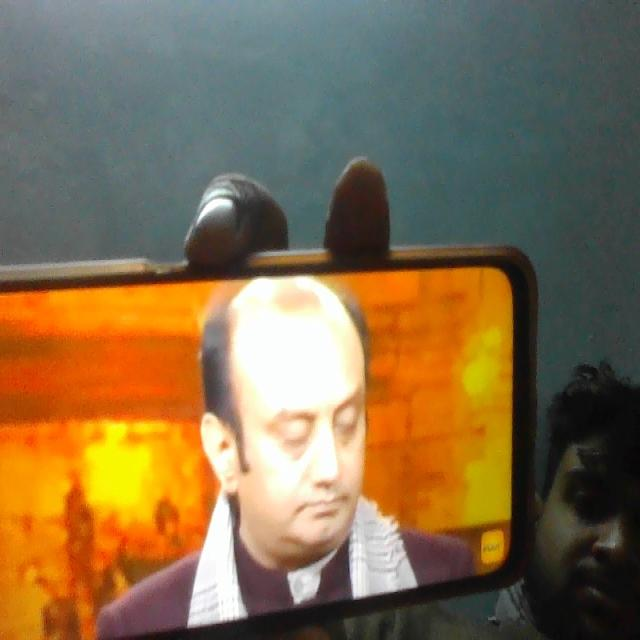fake: (219, 270, 384, 582)
